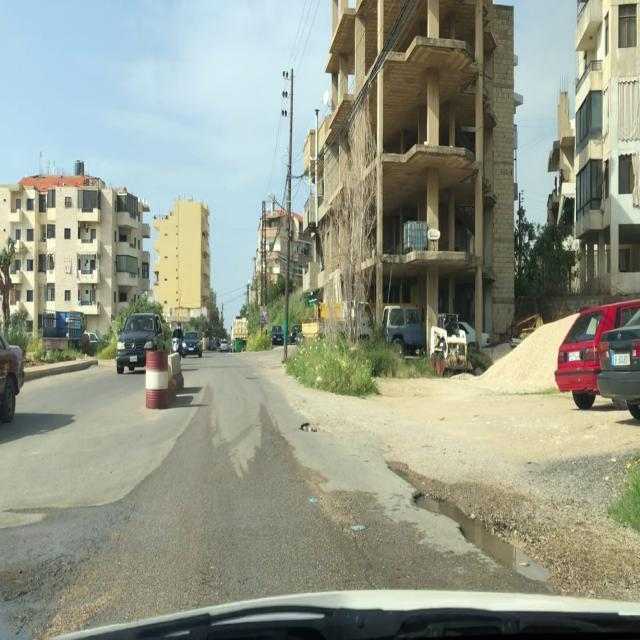pothole: (411, 488, 557, 586), (299, 420, 326, 435)
